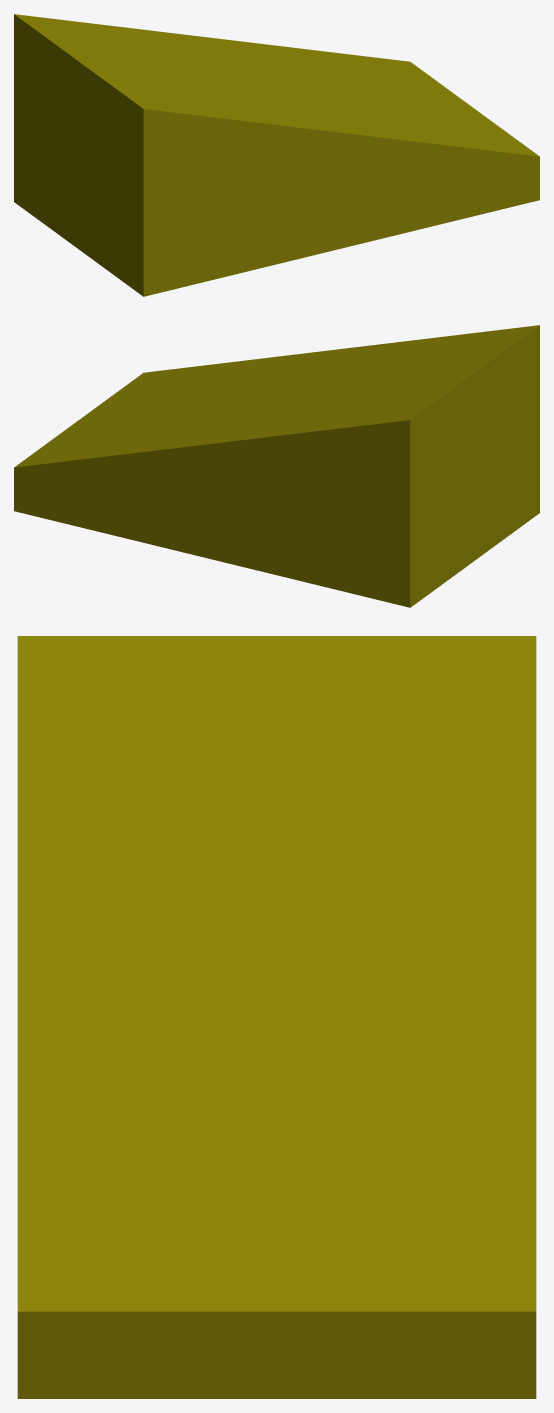
Rendered from cheese.fbx.
3 views of the same model, one above another, from view 1: azimuth 30°, elevation 25°; view 2: azimuth 150°, elevation 25°; view 3: azimuth 270°, elevation 25° (orthographic). The views are drawn at different scales.
Parts seen in each view (by area): view 1: pCube1; view 2: pCube1; view 3: pCube1.
Part boxes in pixels (left/top/right/bottom): pCube1: left=14, top=14, right=539, bottom=296; pCube1: left=14, top=325, right=539, bottom=607; pCube1: left=17, top=636, right=536, bottom=1398.
Bounding box in the file's own units: 2.21 × 1 × 1.25.
